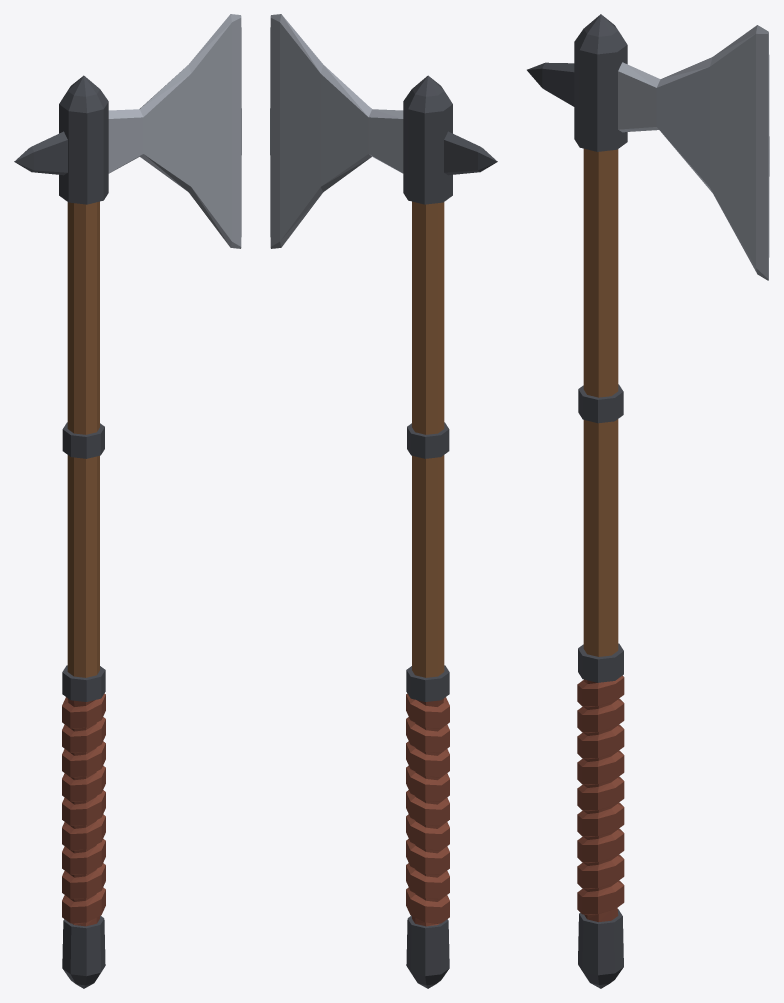
The model's file is battle-axe.glb.
The picture shows the model from 3 angles, left to right: view 1: azimuth 30°, elevation 25°; view 2: azimuth 150°, elevation 25°; view 3: azimuth 330°, elevation 25°; orthographic projection. The views are drawn at different scales.
Visible parts, largest first — view 1: steel, haft_wood, dark_iron, cloth_wrap; view 2: steel, haft_wood, dark_iron, cloth_wrap; view 3: steel, haft_wood, dark_iron, cloth_wrap.
Boxes of the visible parts, left/top/right/bottom form: steel: left=108, top=14, right=241, bottom=248; haft_wood: left=67, top=201, right=99, bottom=677; dark_iron: left=14, top=75, right=108, bottom=988; cloth_wrap: left=62, top=693, right=105, bottom=926; steel: left=270, top=14, right=403, bottom=248; haft_wood: left=412, top=201, right=444, bottom=677; dark_iron: left=403, top=75, right=497, bottom=988; cloth_wrap: left=406, top=693, right=449, bottom=926; steel: left=618, top=25, right=769, bottom=280; haft_wood: left=583, top=148, right=618, bottom=656; dark_iron: left=527, top=14, right=627, bottom=988; cloth_wrap: left=577, top=675, right=624, bottom=922.
Bounding box in the file's own units: 1.3 × 5.14 × 0.23.
